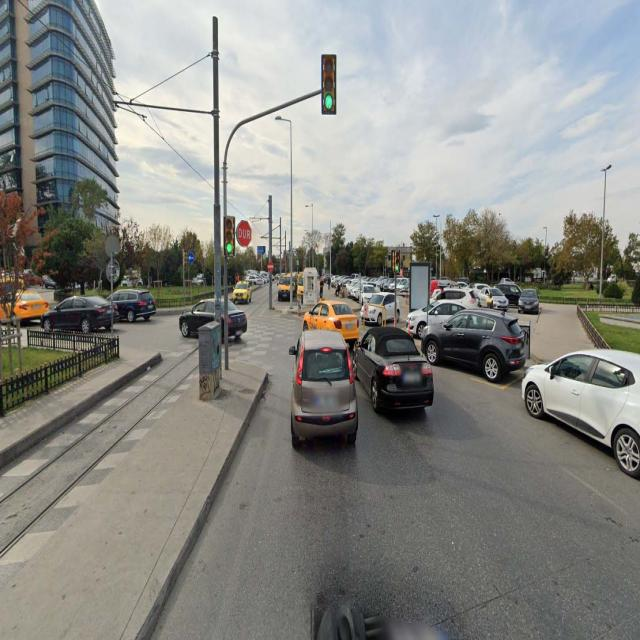dur: (237, 220, 252, 248)
girisyok: (268, 261, 274, 272)
sol: (187, 252, 194, 264)
yesil: (321, 54, 337, 115), (224, 216, 235, 256)
